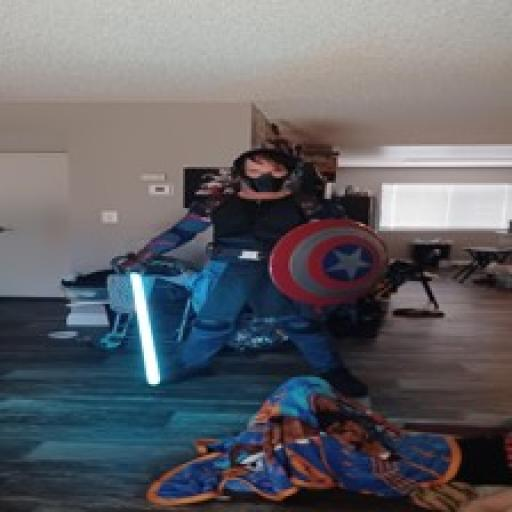lightsaber: (112, 249, 160, 389)
